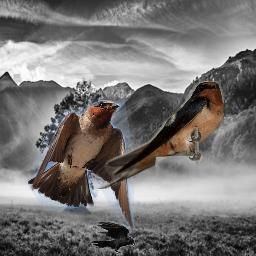Crow: (89, 221, 136, 255)
Swallow: (92, 81, 224, 189), (28, 100, 134, 233)
